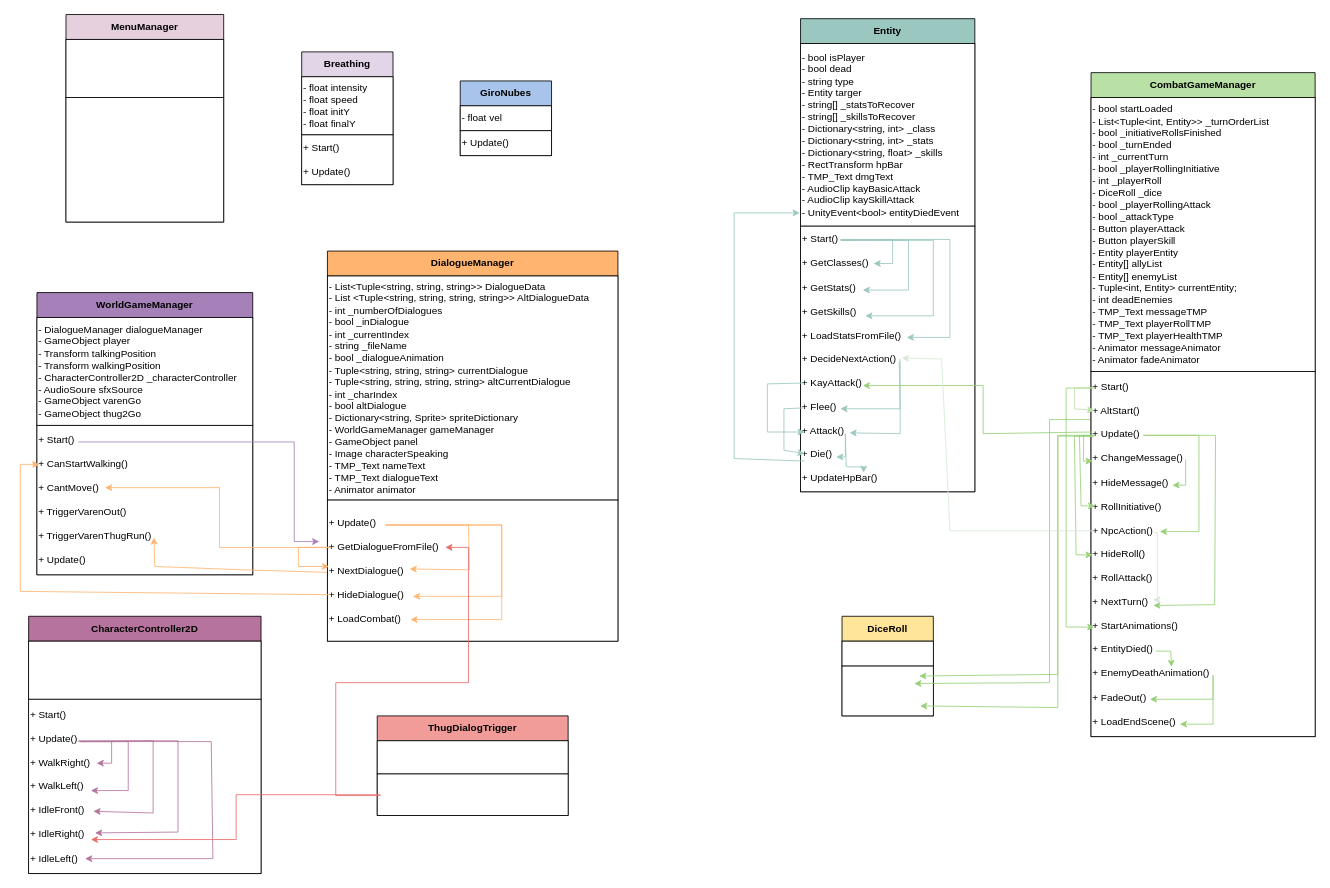
Image size: 1330x888. Some labels were removed from this diagram. The shapes that lost their labels are listed below. From the top down, each one's centre as x and y in pixels, then its label:
At (144,68): "- bool existsGame - GameObject continueText - GameObject continueButton".
At (144,159): "+ Start() + NewGame() + ResetData() + CreateKayData() + Exit()".
At (144,669): "- Animator _animator - Rigidbody2D _rigidbody - string _name - Entity _entity".
At (887,653): "- Rigidbody rb".
At (887,690): "+ StartRolling() + StopRolling()".
At (472,757): "- DialogueManager _dialogueManager".
At (472,794): "+ OnTriggerEnter2D()".
